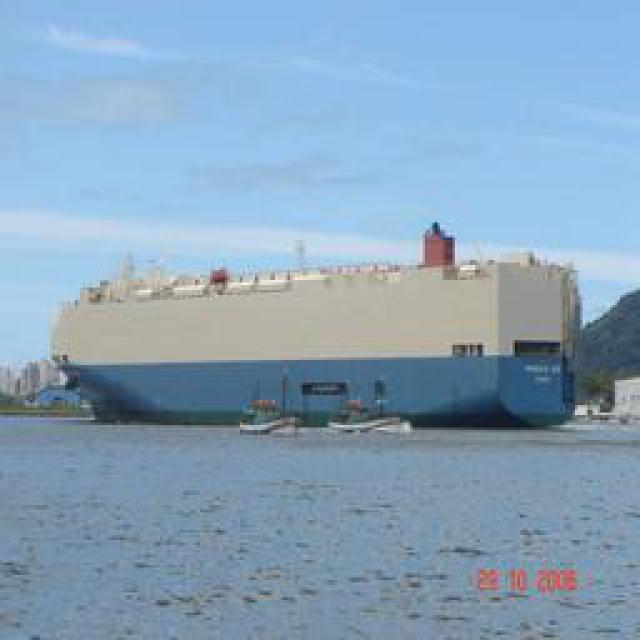Ship: (49, 253, 584, 431)
